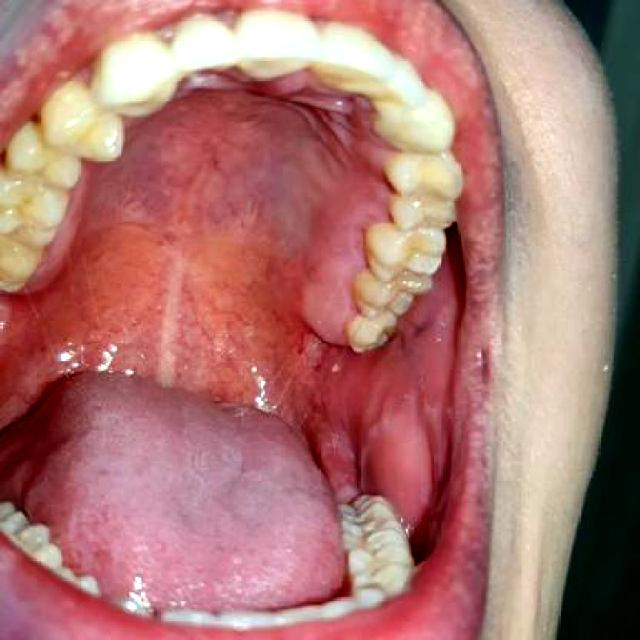Plaque: (343, 198, 388, 275), (332, 259, 376, 323)
